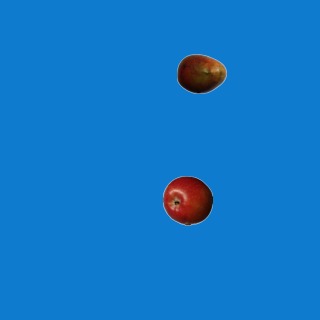Apple Braeburn: (162, 175, 212, 225)
Mango Red: (176, 48, 226, 98)
